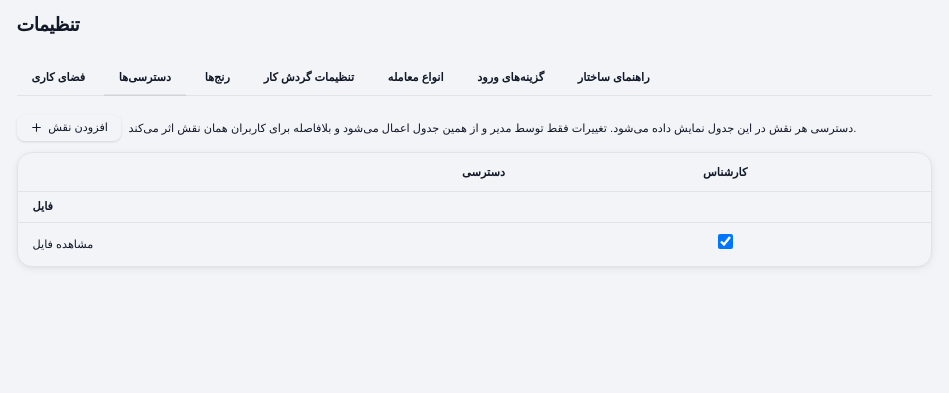
Test: SettingsPage inline tabs integration › lists roles as access-table columns and creates a custom role column from the table header
Expected: the text "کارشناس" is shown, [703,166,747,178]
Click the button "افزودن نقش" at (69, 128), box [16,115,121,141]
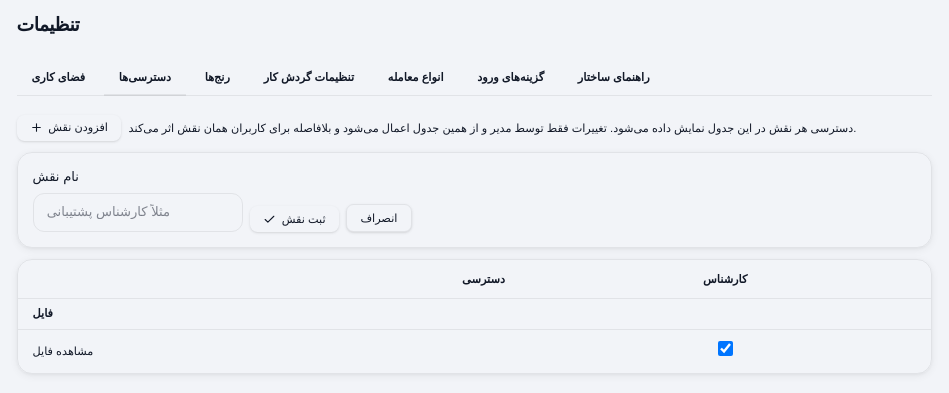
Type "کارشناس پشتیبانی" into the field with placeholder "مثلاً کارشناس پشتیبانی" at (138, 212), box [32,193,242,232]
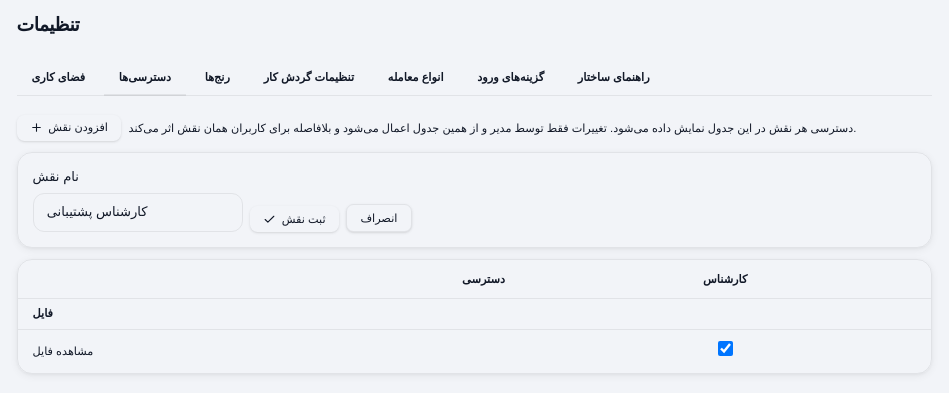
Click the button "ثبت نقش" at (294, 219), box [250,206,339,232]
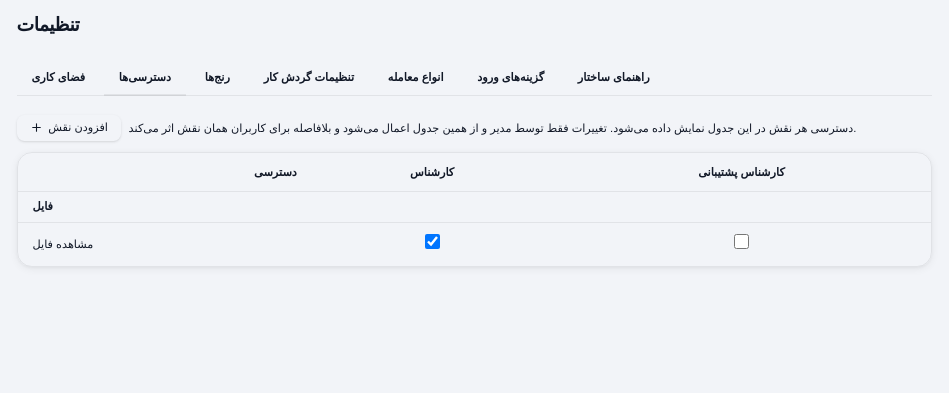
Expected: the text "کارشناس پشتیبانی" is shown, [698,166,785,178]
